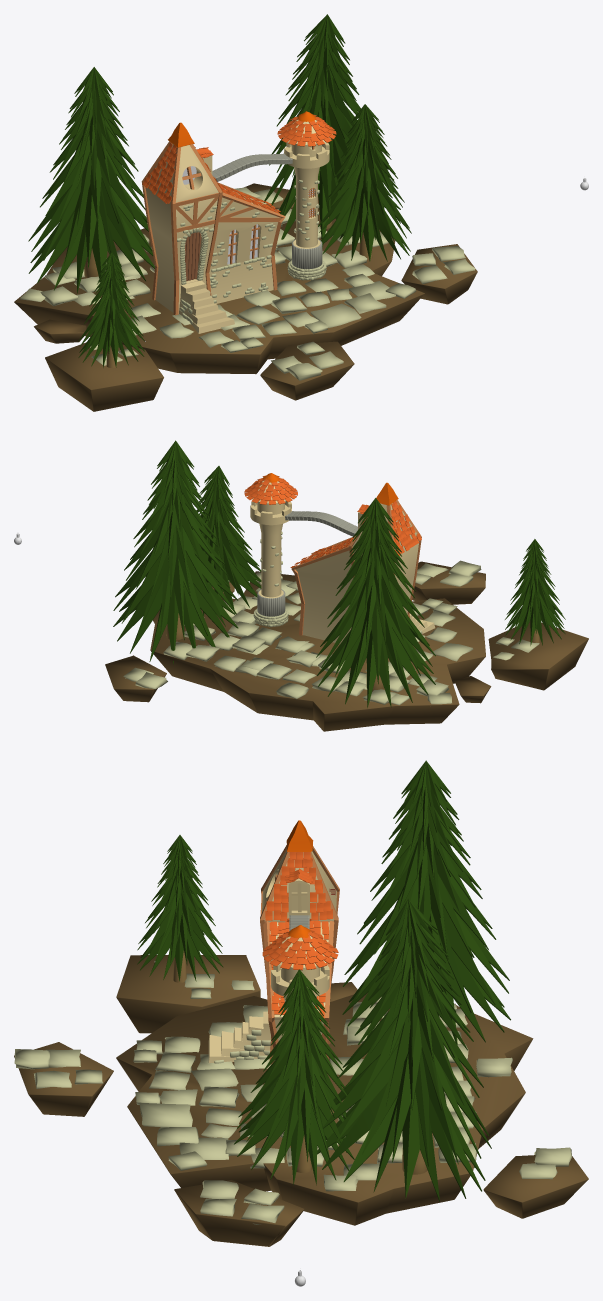
The model's file is tnak22.fbx_Scene.fbx.
3 views of the same model, one above another, from view 1: azimuth 30°, elevation 25°; view 2: azimuth 150°, elevation 25°; view 3: azimuth 270°, elevation 25° (orthographic). The views are drawn at different scales.
Visible parts, largest first — view 1: tree, ground, tomet, homwall, woodhome.002, Cube.786, brick, kamurj, towerstone.001, barck, door, roof; view 2: tree, ground, tomet, homwall, Cube.786, woodhome.002, kamurj, towerstone.001, brick, roof, barck; view 3: tree, ground, tomet, Cube.786, homwall, woodhome.002, barck, roof, brick.
Boxes of the visible parts, box(x1,y1,x2,y2) form: tree: box(28, 14, 411, 367); ground: box(14, 183, 477, 411); tomet: box(20, 187, 475, 380); homwall: box(145, 119, 332, 333); woodhome.002: box(141, 141, 316, 315); Cube.786: box(142, 114, 336, 213); brick: box(177, 180, 326, 324); kamurj: box(212, 153, 292, 181); towerstone.001: box(292, 239, 322, 269); barck: box(84, 197, 372, 367); door: box(185, 232, 201, 281); roof: box(168, 111, 315, 147); tree: box(113, 440, 565, 707); ground: box(105, 561, 588, 731); tomet: box(123, 560, 539, 705); homwall: box(248, 480, 435, 643); Cube.786: box(244, 475, 421, 567); woodhome.002: box(291, 500, 421, 658); kamurj: box(285, 511, 357, 536); towerstone.001: box(257, 589, 285, 616); brick: box(253, 531, 422, 637); roof: box(263, 473, 398, 505); barck: box(166, 586, 539, 691); tree: box(137, 760, 510, 1201); ground: box(14, 955, 588, 1246); tomet: box(14, 973, 571, 1224); Cube.786: box(262, 852, 338, 1021); homwall: box(208, 850, 336, 1063); woodhome.002: box(260, 845, 339, 1064); barck: box(173, 951, 427, 1174); roof: box(286, 820, 313, 937); brick: box(214, 1029, 284, 1137).
Size of the model in its own units: 34.18 by 14.01 by 23.53.
